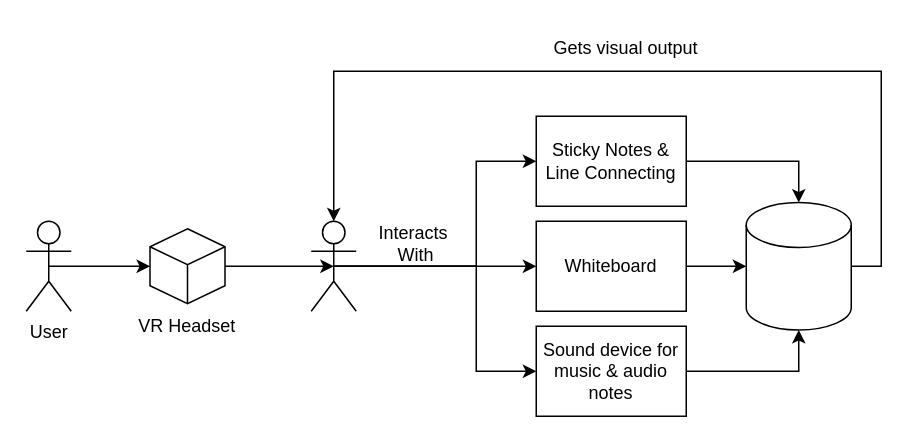
Image size: 920x443. Some labels were removed from this diagram. The centre of each missing label's shape, as x and y in pixels:
"Saved Information" goes at point (798, 265).
"User in VR space" goes at point (333, 265).
